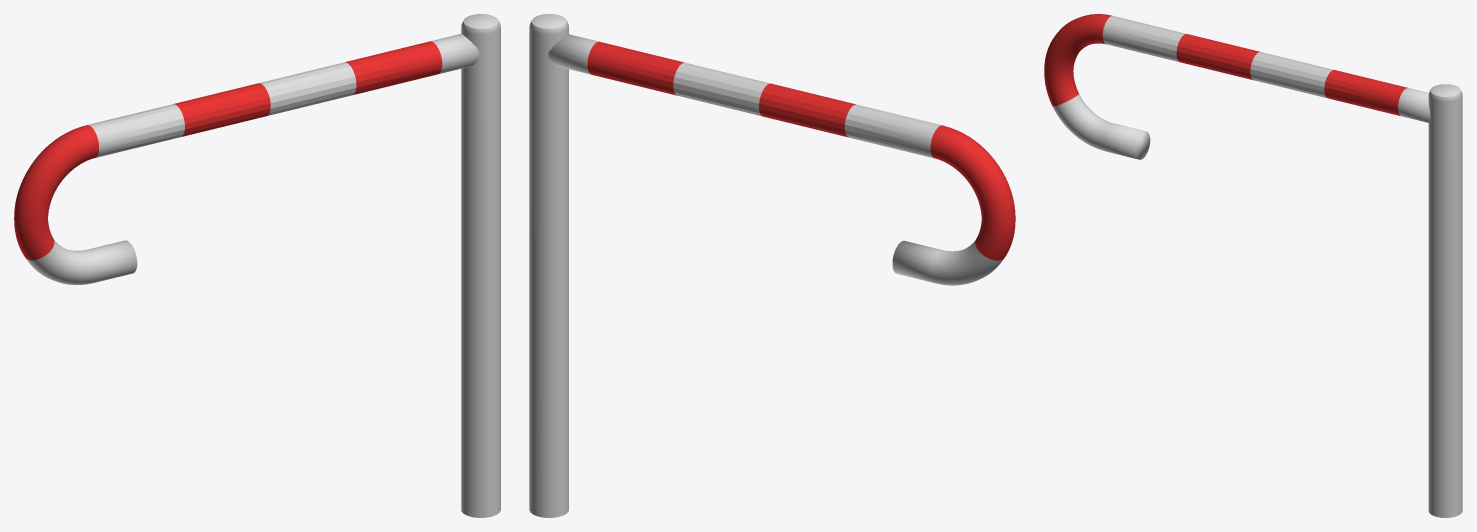
3 renders of one model, left to right at view 1: azimuth 30°, elevation 25°; view 2: azimuth 150°, elevation 25°; view 3: azimuth 330°, elevation 25°, orthographic. The views are drawn at different scales.
Visible parts, largest first — view 1: Torus, pCylinder4; view 2: Torus, pCylinder4; view 3: Torus, pCylinder4.
Part boxes in pixels (x1,y1,x2,y2): Torus: (14,33,479,285); pCylinder4: (461,14,500,517); Torus: (548,34,1015,285); pCylinder4: (529,14,568,517); Torus: (1044,14,1430,159); pCylinder4: (1428,84,1462,517).
Bounding box in the file's own units: 8.09 × 7.86 × 0.58.
